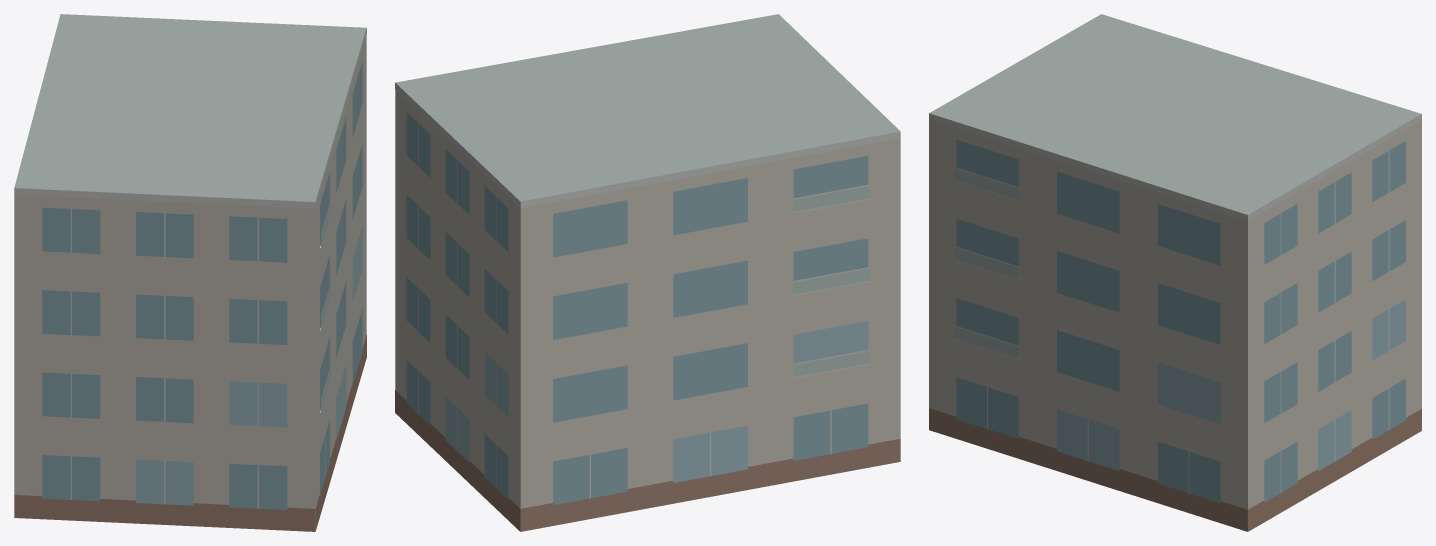
Rendered from survey-upis-32960314.glb.
3 renders of one model, left to right at view 1: azimuth 30°, elevation 25°; view 2: azimuth 150°, elevation 25°; view 3: azimuth 270°, elevation 25°, orthographic. The views are drawn at different scales.
Visible parts, largest first — view 1: survey-upis-32960314.tmp; view 2: survey-upis-32960314.tmp; view 3: survey-upis-32960314.tmp.
Part boxes in pixels (left/top/right/bottom): survey-upis-32960314.tmp: left=14, top=14, right=366, bottom=531; survey-upis-32960314.tmp: left=395, top=14, right=900, bottom=531; survey-upis-32960314.tmp: left=929, top=14, right=1421, bottom=531.
Bounding box in the file's own units: 16.6 × 12.2 × 17.2.
